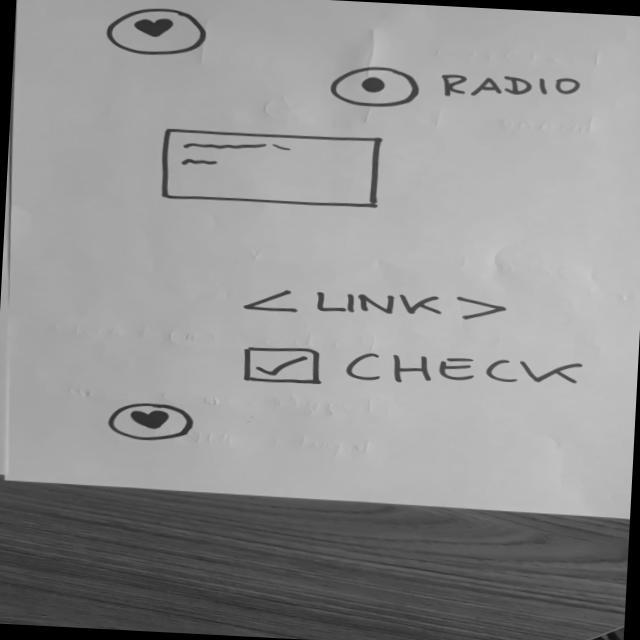checkbox: (238, 338, 599, 405)
icon-button: (103, 4, 217, 63), (105, 400, 199, 446)
link: (233, 282, 519, 332)
radio: (326, 61, 589, 121)
textarea: (156, 126, 388, 214)
